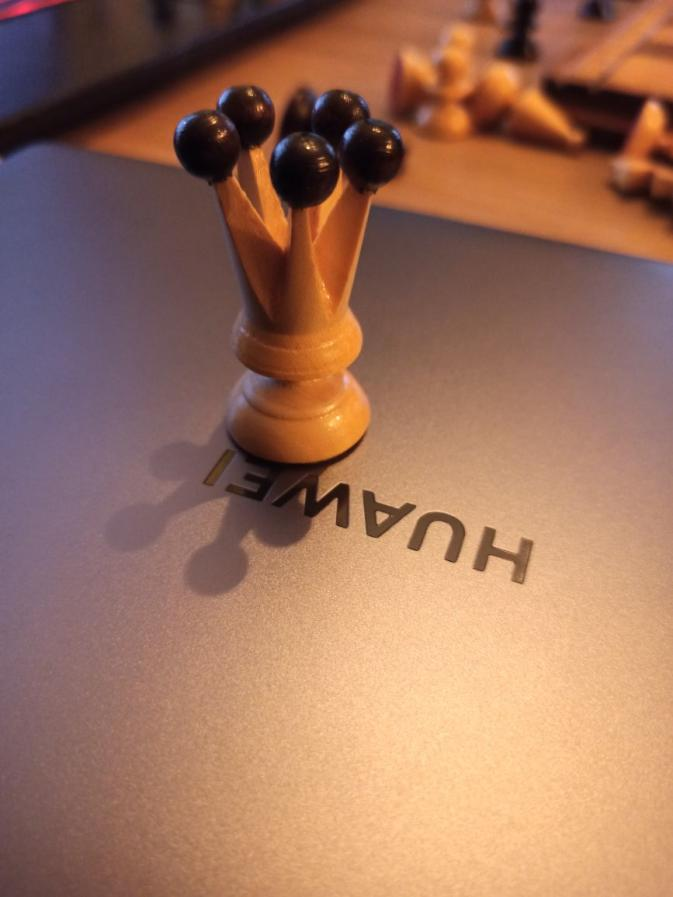wqueen: (175, 82, 405, 472)
